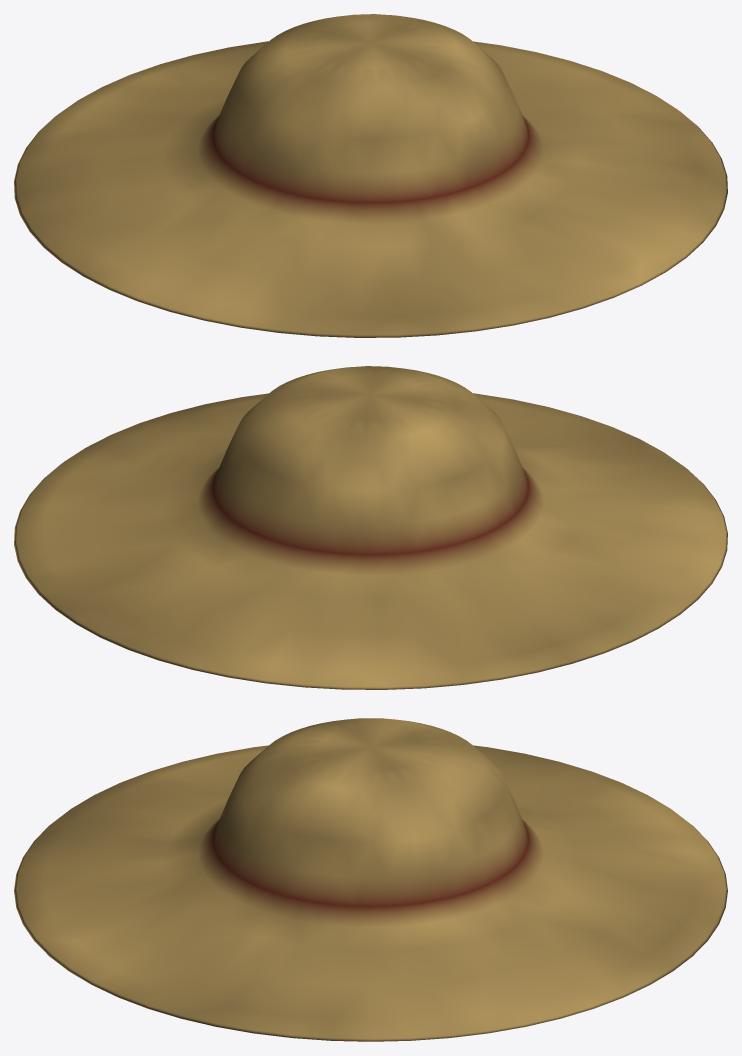
The model's file is straw_hat.glb.
3 renders of one model, top to bottom at view 1: azimuth 30°, elevation 25°; view 2: azimuth 150°, elevation 25°; view 3: azimuth 270°, elevation 25°, orthographic.
Visible parts, largest first — view 1: straw_hat; view 2: straw_hat; view 3: straw_hat.
Part boxes in pixels (left/top/right/bottom): straw_hat: left=14, top=14, right=727, bottom=337; straw_hat: left=14, top=366, right=727, bottom=689; straw_hat: left=14, top=718, right=727, bottom=1041.
Size of the model in its own units: 0.6395 by 0.1426 by 0.6395.
